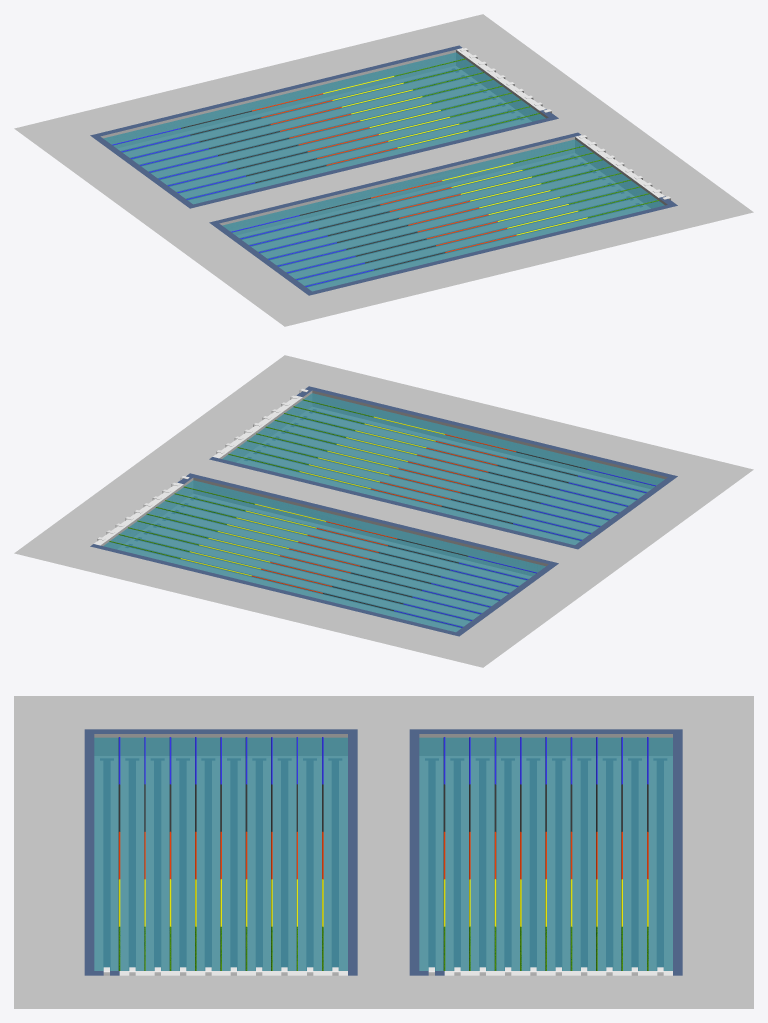
The model's file is 255_pool.dae.
The picture shows the model from 3 angles, top to bottom: view 1: azimuth 30°, elevation 25°; view 2: azimuth 150°, elevation 25°; view 3: azimuth 270°, elevation 25°; orthographic projection. The views are drawn at different scales.
Parts seen in each view (by area): view 1: SketchUp (×29); view 2: SketchUp (×31); view 3: SketchUp (×53).
Part boxes in pixels (<box>): SketchUp (×29): <box>14,14,753,326</box>; SketchUp (×31): <box>14,355,753,667</box>; SketchUp (×53): <box>14,696,753,1008</box>.
Bounding box in the file's own units: 65 × 65 × 2.5.
